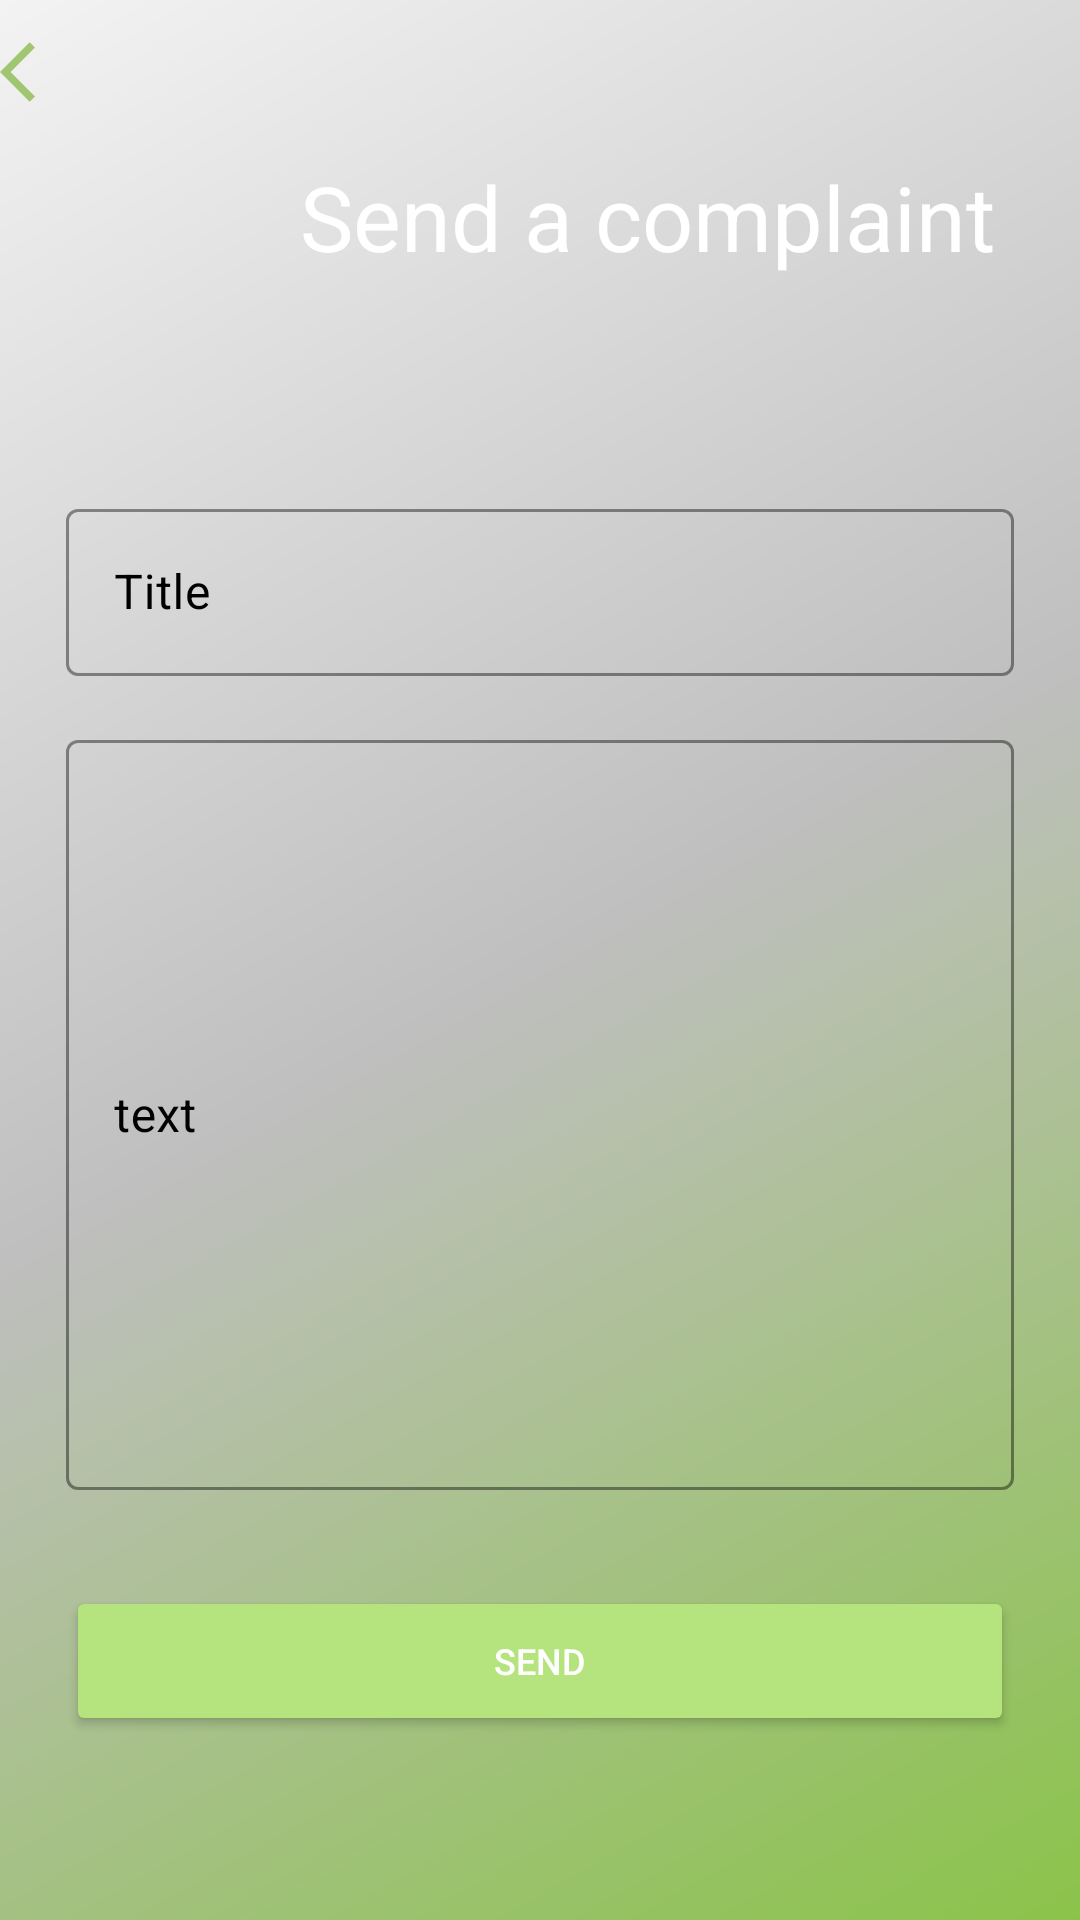

Named icons in this screenshot (1080x1920) and their centers, (x=x, y=y):
arrow back: (x=17, y=72)
